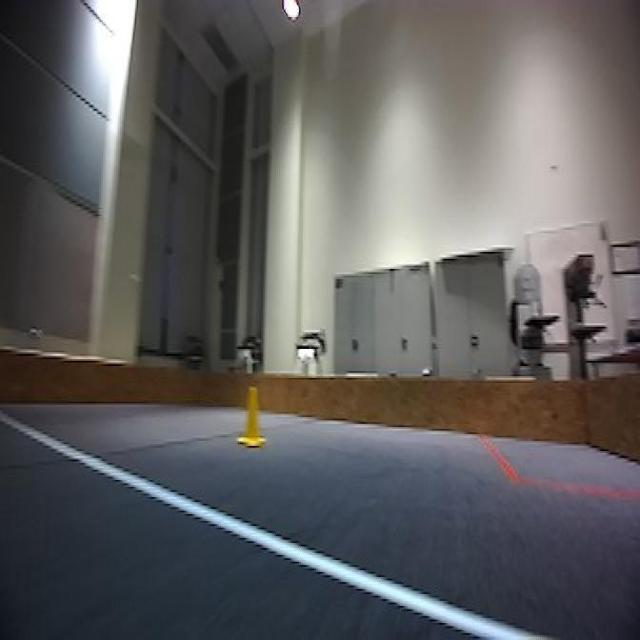frc_cone: (235, 376, 268, 451)
